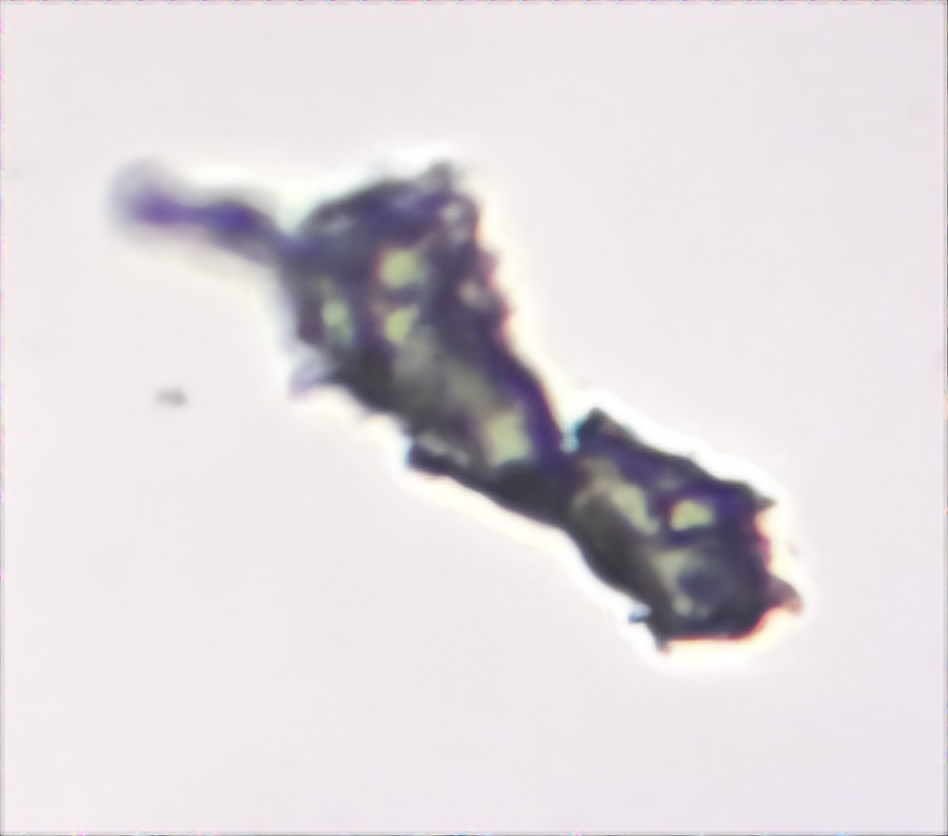microplastic: (110, 161, 808, 658), (145, 384, 192, 417)
